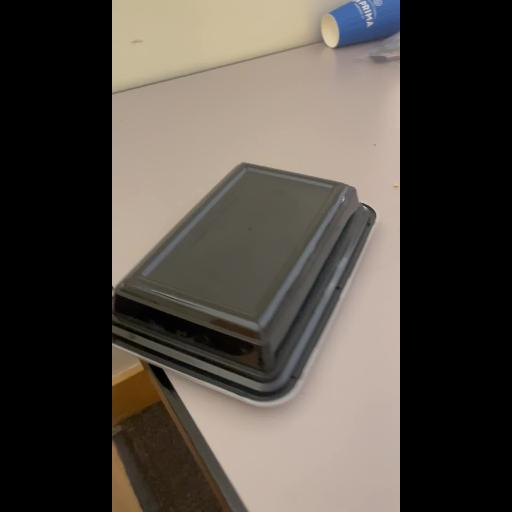rigid_plastic_container: (112, 157, 376, 411)
